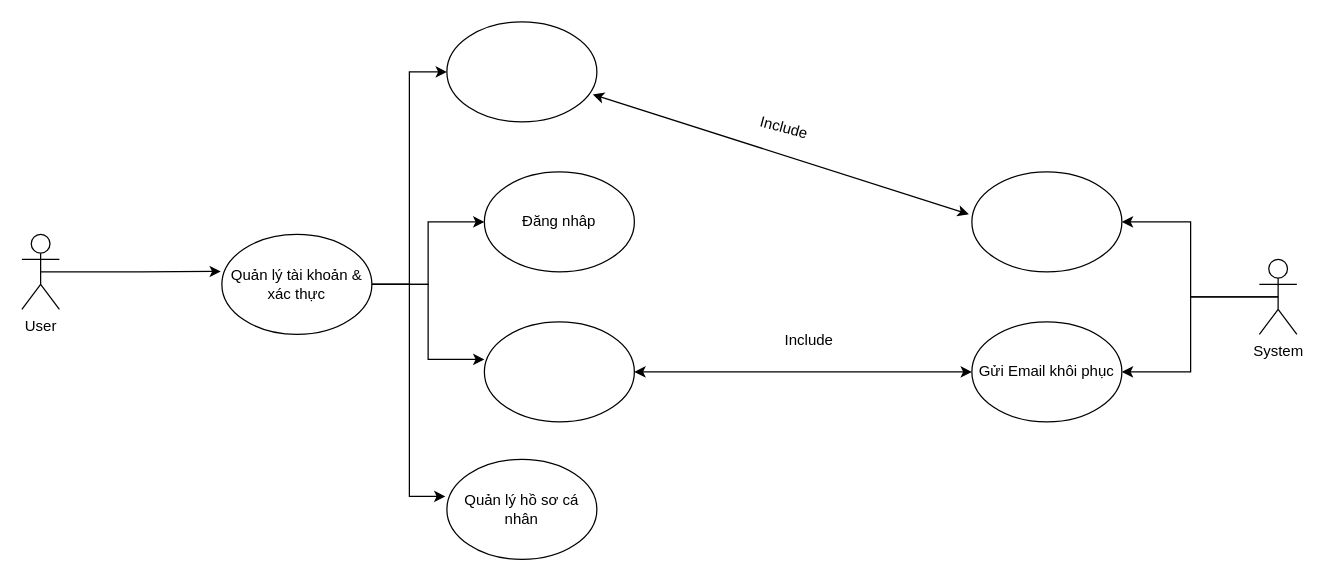
The diagram is 1325 pixels wide and 581 high, and some of its shapes have lost their labels. Each missing label, with the centre of its shape:
Quên mật khẩu: point 558,371
Xác thực Email: point 1046,221
Đăng ký: point 521,71
